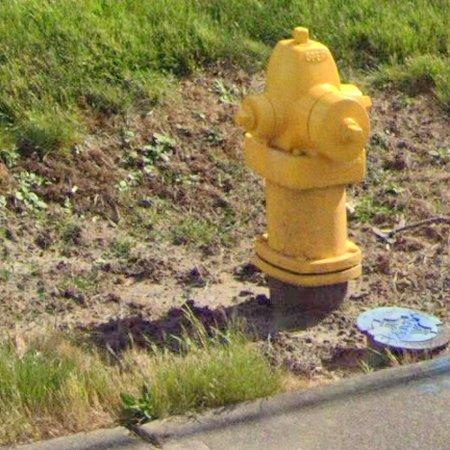a fire hydrant: (236, 27, 372, 310)
